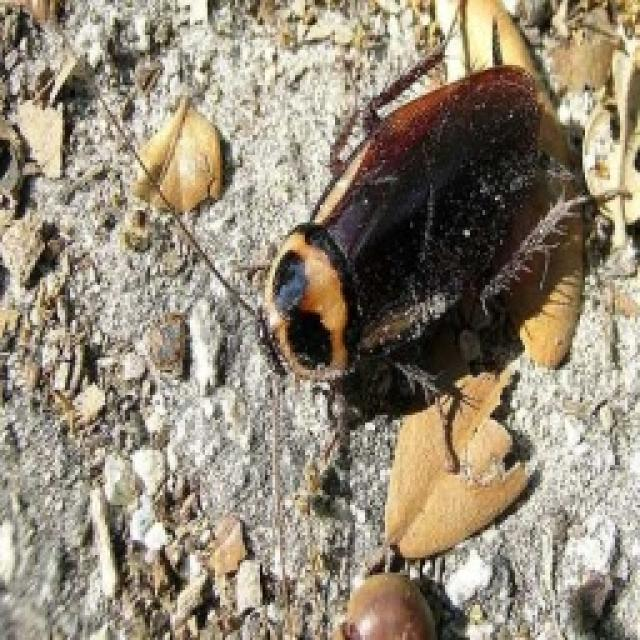cockroach: (232, 36, 600, 425)
